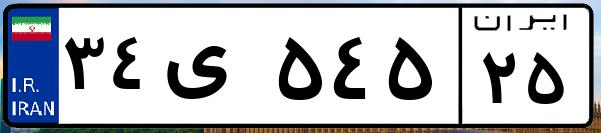2: (475, 38, 525, 113)
3: (57, 26, 110, 100)
4: (330, 28, 385, 110), (110, 28, 158, 98)
5: (270, 28, 330, 110), (385, 28, 445, 110), (525, 38, 570, 115)
ی: (158, 20, 270, 120)
